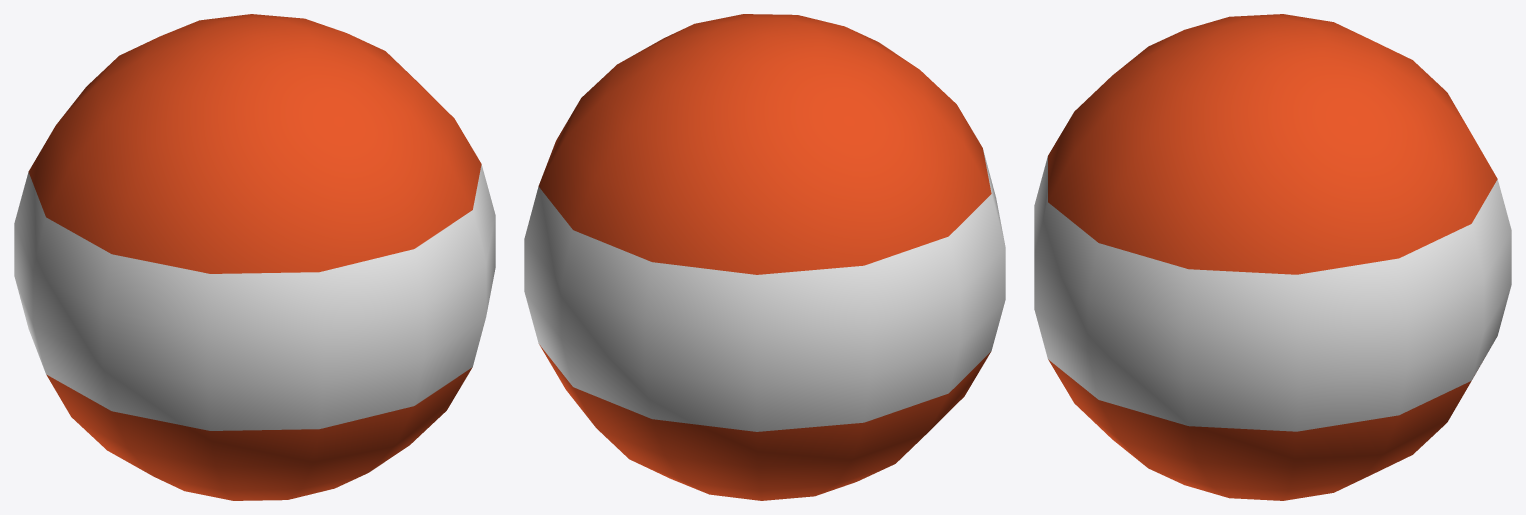
File: D_Ball12_01.fbx
3 renders of one model, left to right at view 1: azimuth 30°, elevation 25°; view 2: azimuth 150°, elevation 25°; view 3: azimuth 270°, elevation 25°, orthographic.
Parts seen in each view (by area): view 1: D_Ball12_01; view 2: D_Ball12_01; view 3: D_Ball12_01.
Boxes of the visible parts, <box> form: D_Ball12_01: <box>14,14,495,500</box>; D_Ball12_01: <box>524,14,1005,500</box>; D_Ball12_01: <box>1034,14,1511,500</box>.
Bounding box in the file's own units: 0.9798 × 0.9943 × 0.9727.
